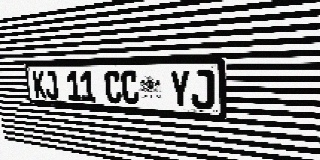1: (79, 71, 96, 102), (65, 71, 82, 101)
C: (120, 70, 140, 105), (104, 70, 122, 104)
J: (191, 69, 214, 110), (44, 71, 59, 100)
K: (32, 71, 47, 99)
Y: (169, 70, 191, 108)
